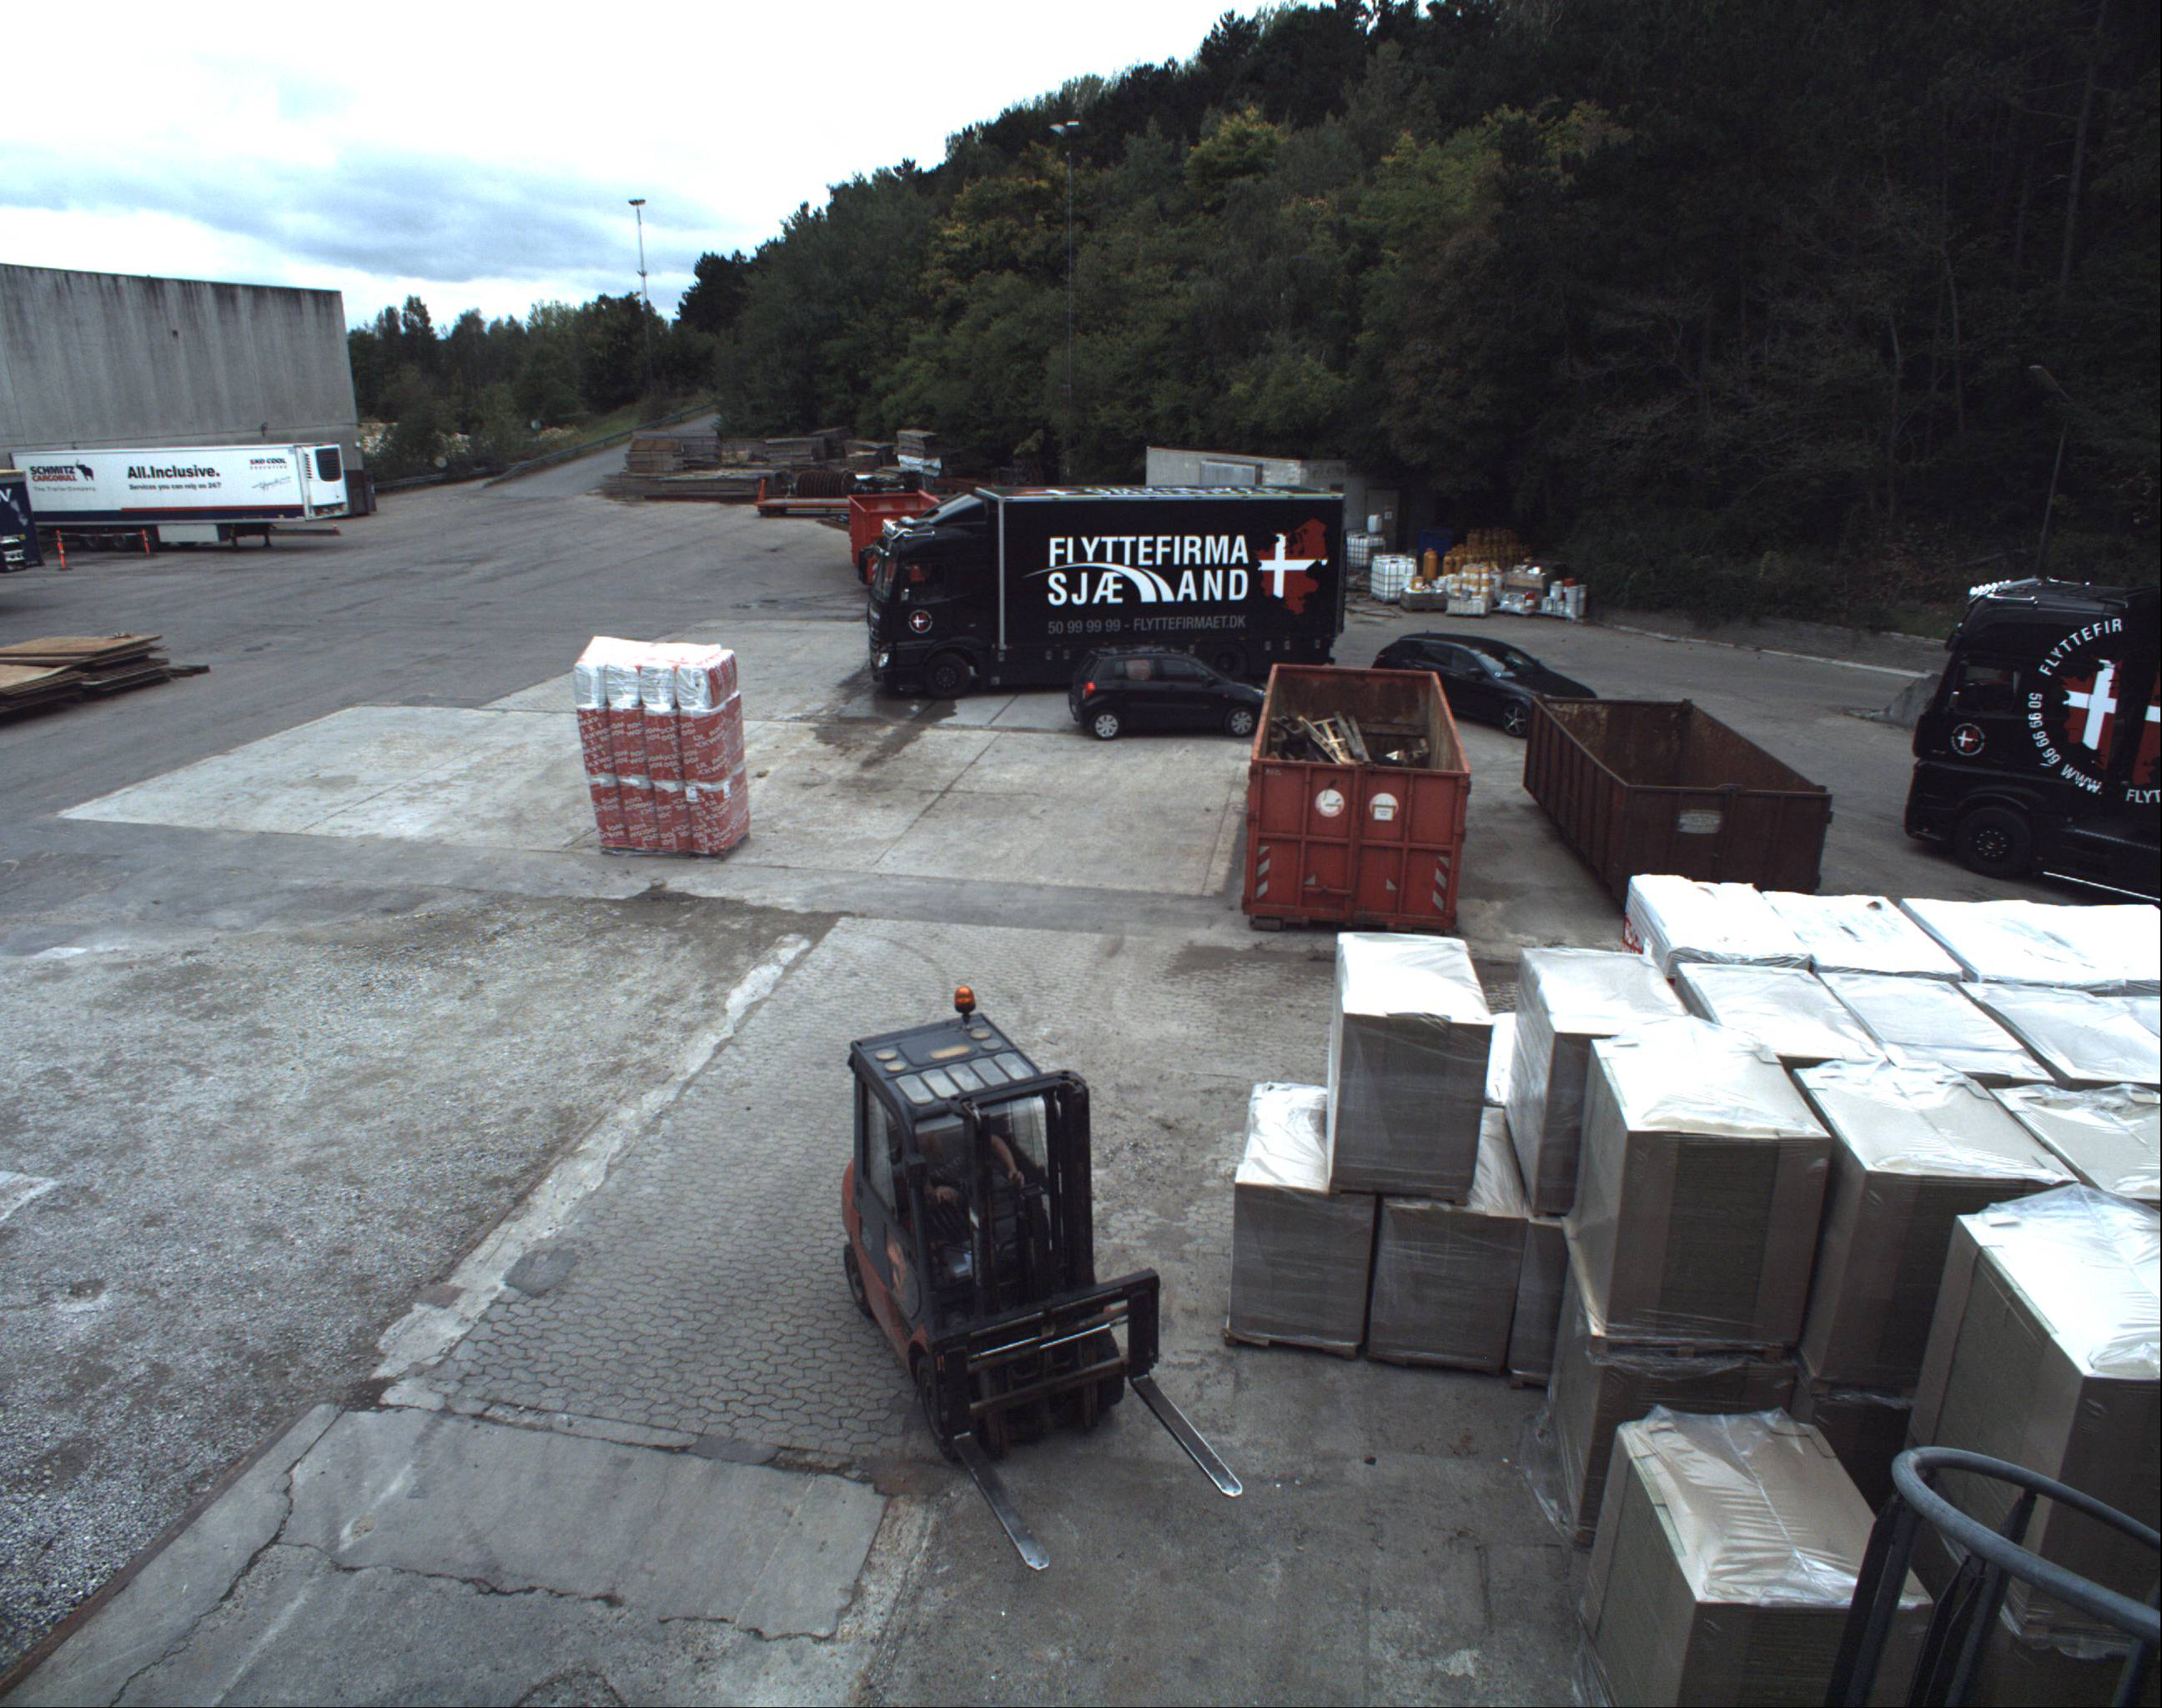rockwool_batts: (572, 635, 751, 848)
